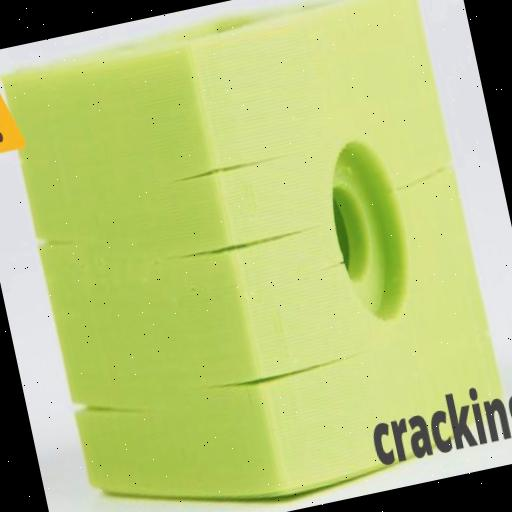cracks: (191, 342, 367, 404), (160, 212, 324, 272), (168, 142, 296, 194), (71, 378, 156, 433), (383, 161, 453, 200), (34, 222, 80, 260), (316, 252, 344, 272)
